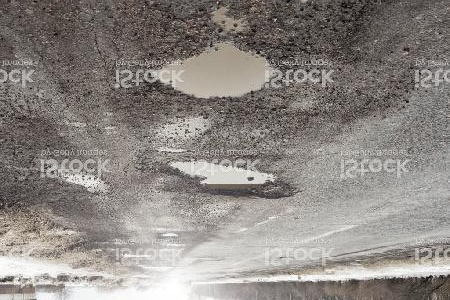pothole: (151, 43, 280, 103), (155, 158, 295, 202)
